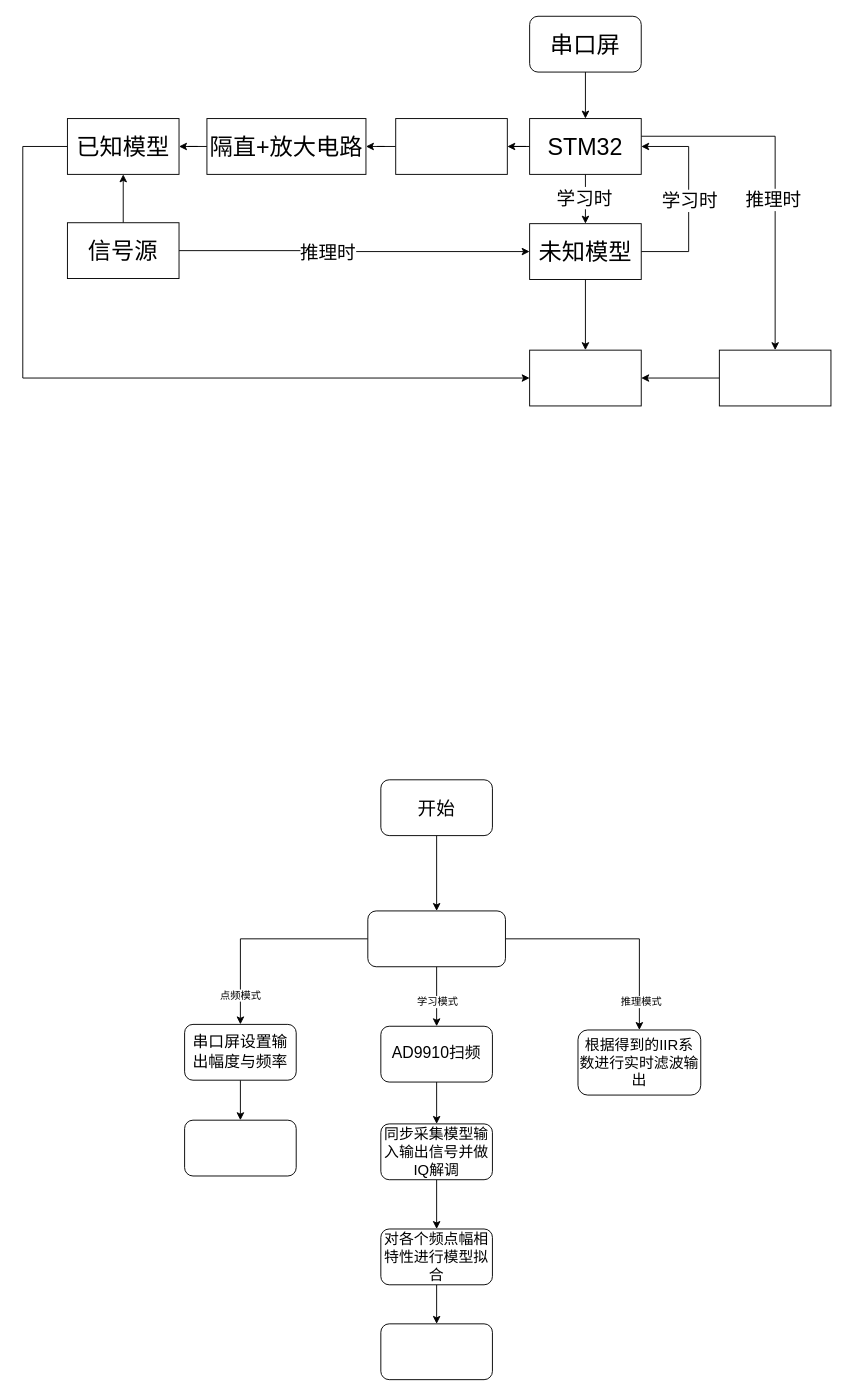
The diagram is 847 pixels wide and 1396 high, and some of its shapes have lost their labels. The box of each missing label's shape, as (x1, y1, x2, y2) in pixels:
AD9910: (395, 118, 507, 174)
低通+隔直: (718, 349, 831, 406)
将模拟S域模型离散化为Z域模型，得出二阶IIR滤波器系数: (380, 1323, 492, 1380)
探究已知/未知模型电路: (367, 910, 505, 967)
控制AD9910信号输出: (184, 1119, 296, 1176)
示波器: (529, 349, 641, 406)
